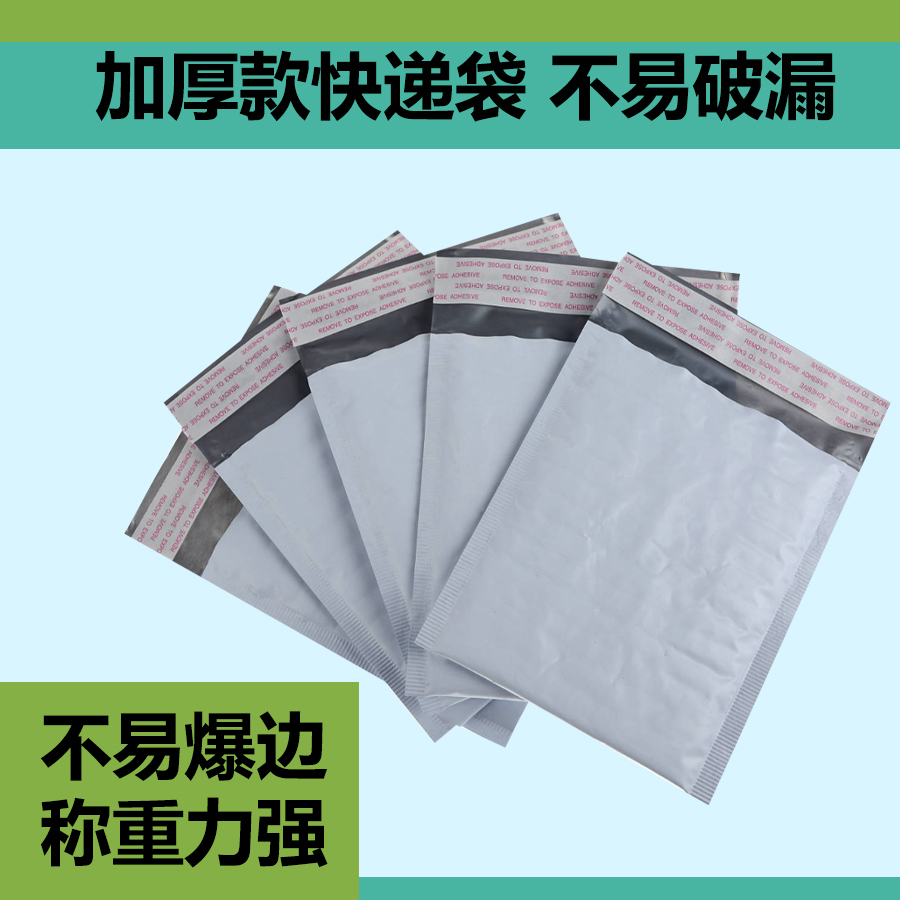塑料袋: (391, 251, 900, 842), (165, 232, 491, 739), (131, 436, 529, 745), (413, 245, 616, 626), (282, 256, 435, 637)
